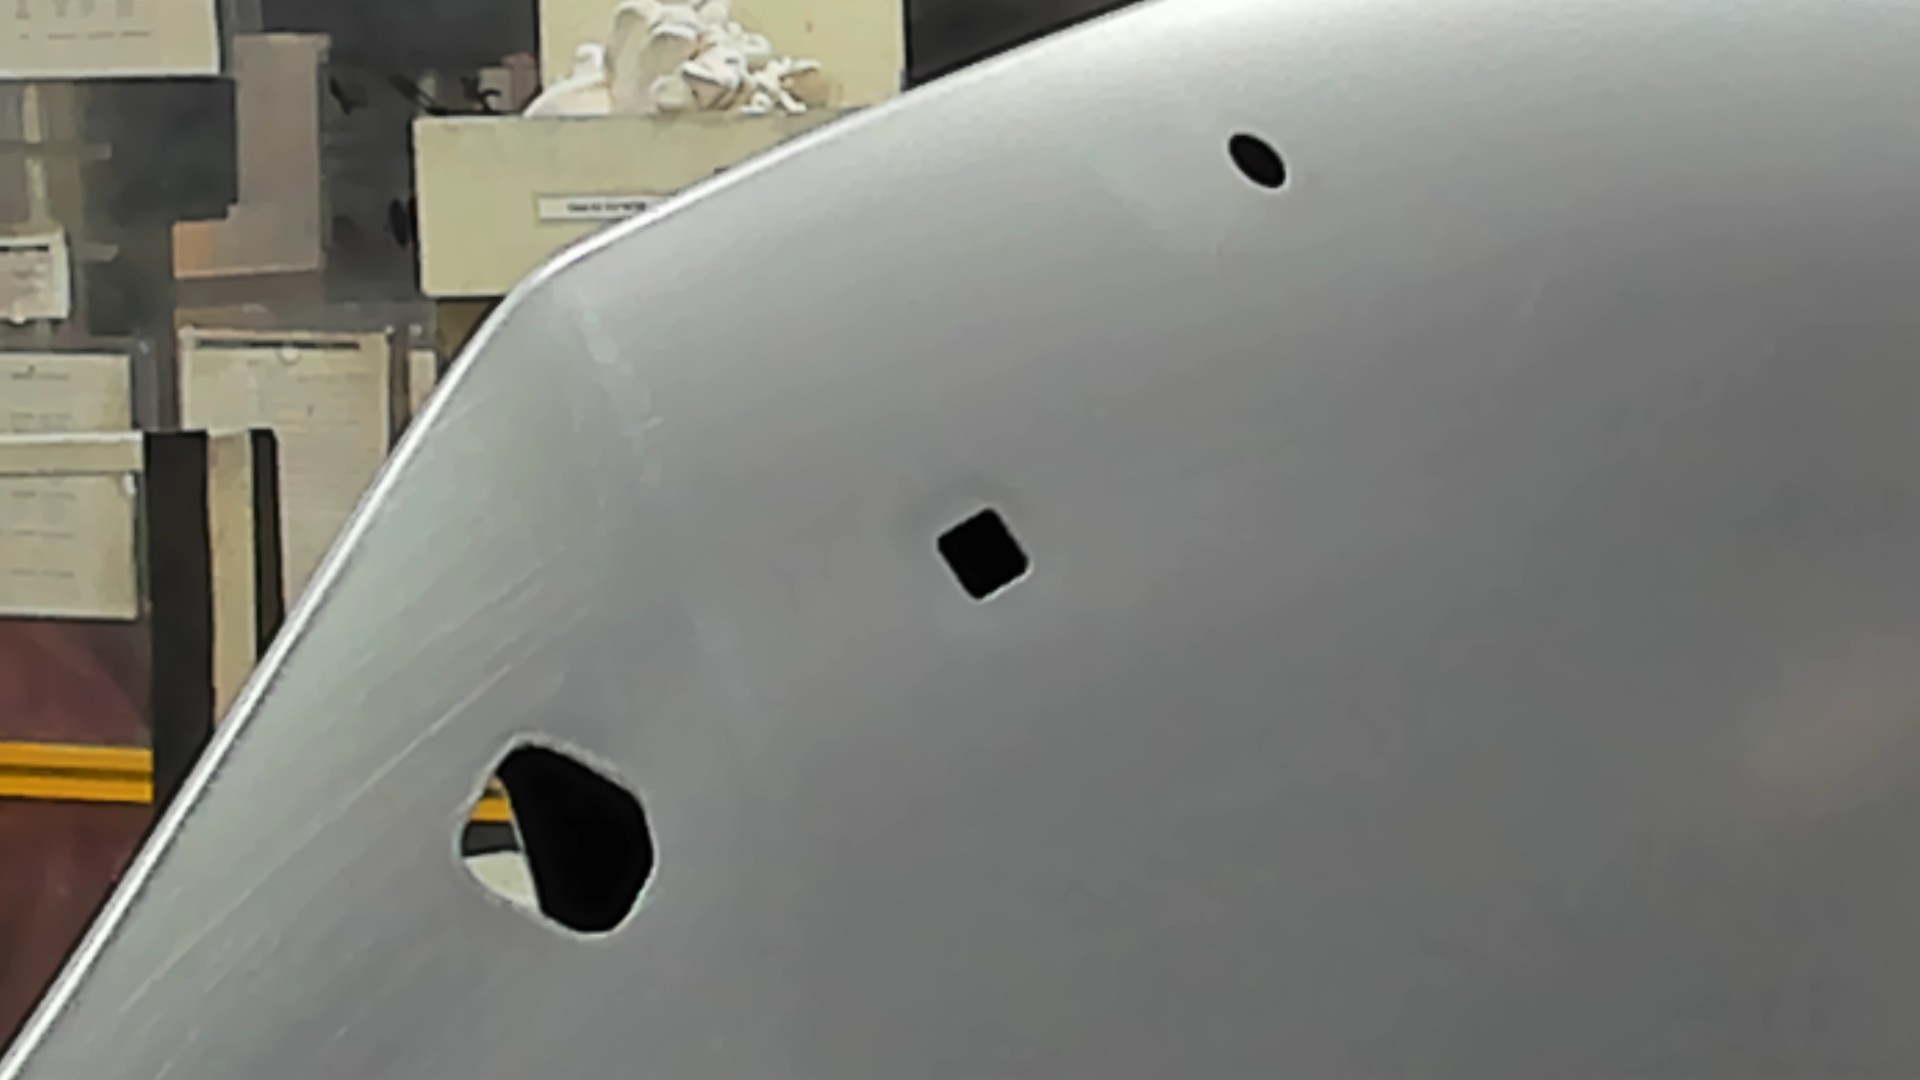capo: (1052, 196, 1920, 1080)
chico: (1222, 124, 1290, 193)
grande: (451, 728, 657, 949)
mediano: (930, 506, 1043, 611)
